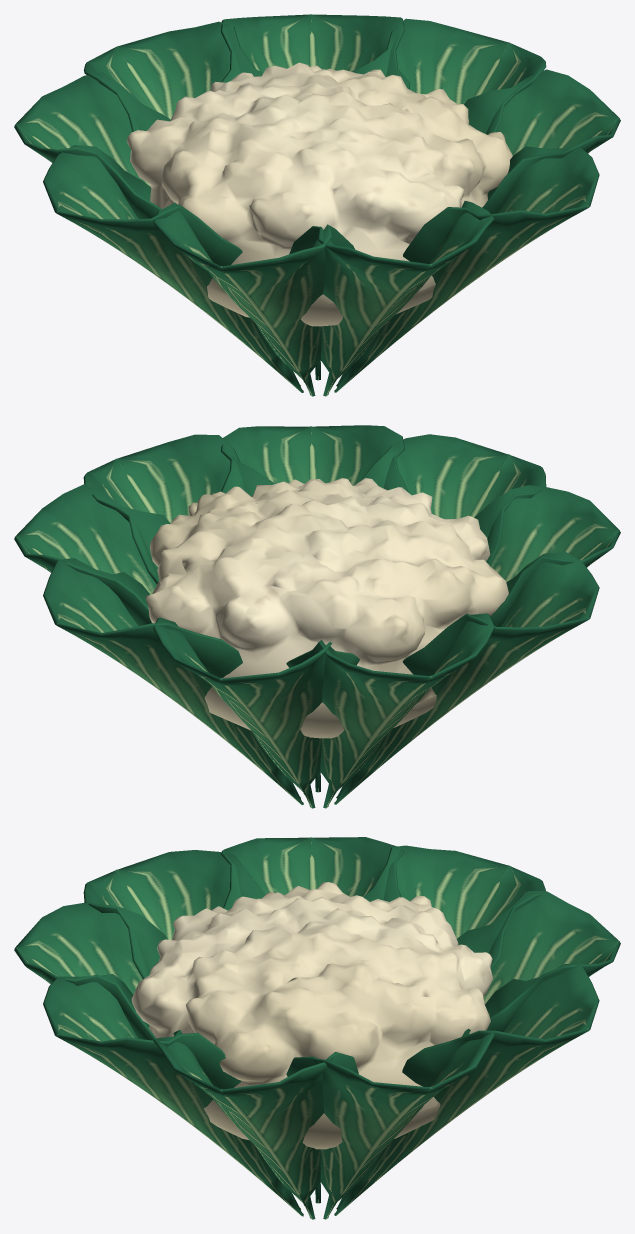
Rendered from NP_Cauliflower_Ready.fbx.
The picture shows the model from 3 angles, top to bottom: view 1: azimuth 30°, elevation 25°; view 2: azimuth 150°, elevation 25°; view 3: azimuth 270°, elevation 25°; orthographic projection.
Visible parts, largest first — view 1: NP_Cauliflower_Ready; view 2: NP_Cauliflower_Ready; view 3: NP_Cauliflower_Ready.
Boxes of the visible parts, x1,y1,x2,y2 form: NP_Cauliflower_Ready: [14, 14, 620, 396]; NP_Cauliflower_Ready: [14, 425, 620, 808]; NP_Cauliflower_Ready: [14, 837, 620, 1219].
Size of the model in its own units: 79.81 by 42.68 by 80.67.
